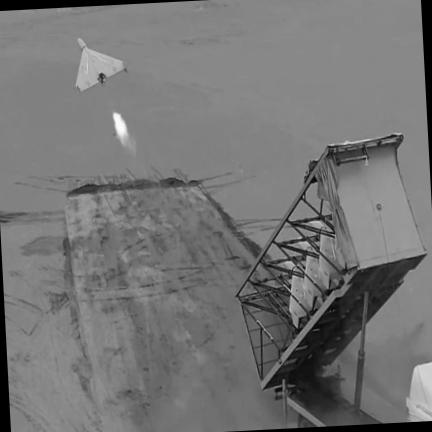Shahed: (75, 38, 125, 92)
